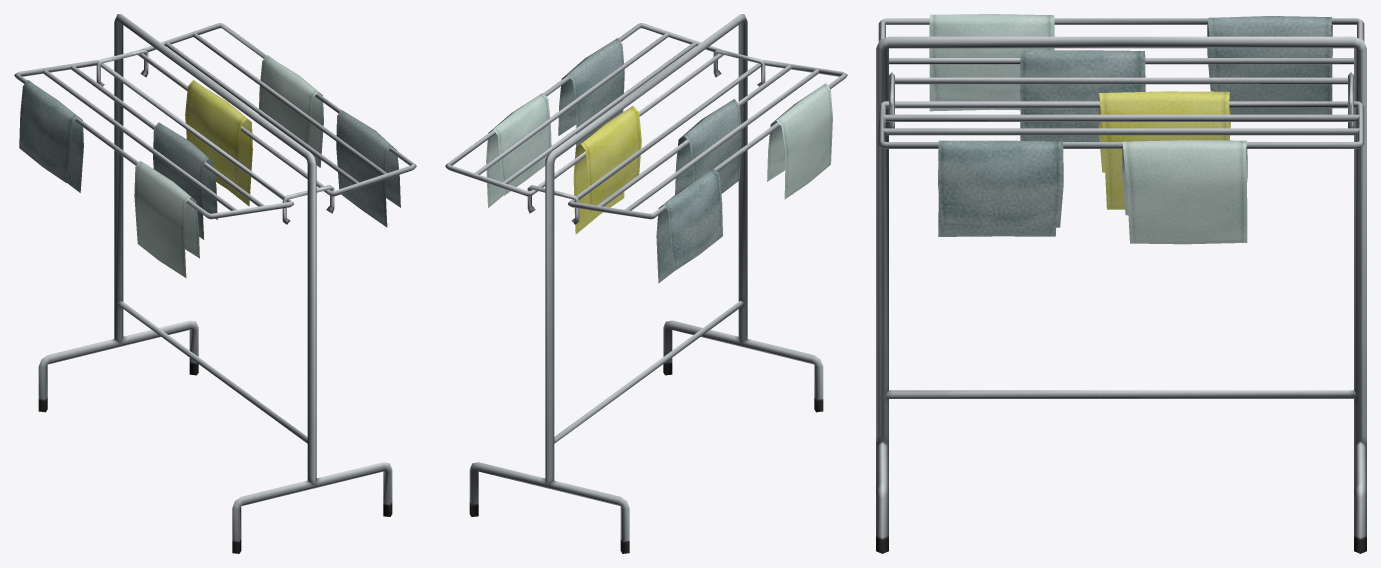
The model's file is SHW_Towel_rack_01_01.fbx.
3 renders of one model, left to right at view 1: azimuth 30°, elevation 25°; view 2: azimuth 150°, elevation 25°; view 3: azimuth 270°, elevation 25°, orthographic. The views are drawn at different scales.
Parts seen in each view (by area): view 1: Towel_rack, duster_06, duster_05, duster_04, duster_01, duster_02, duster_03; view 2: Towel_rack, duster_06, duster_05, duster_04, duster_02, duster_01, duster_03; view 3: Towel_rack, duster_02, duster_01, duster_05, duster_06, duster_03, duster_04.
Boxes of the visible parts, x1,y1,x2,y2 form: Towel_rack: [14, 14, 416, 553]; duster_06: [134, 161, 199, 277]; duster_05: [19, 80, 83, 192]; duster_04: [185, 79, 252, 206]; duster_01: [336, 110, 400, 227]; duster_02: [259, 55, 323, 167]; duster_03: [153, 122, 217, 239]; Towel_rack: [445, 14, 847, 553]; duster_06: [767, 83, 832, 199]; duster_05: [656, 168, 722, 283]; duster_04: [573, 106, 641, 234]; duster_02: [486, 93, 551, 207]; duster_01: [558, 38, 624, 147]; duster_03: [675, 99, 741, 194]; Towel_rack: [876, 18, 1366, 553]; duster_02: [1122, 140, 1247, 244]; duster_01: [938, 140, 1063, 236]; duster_05: [1207, 16, 1332, 114]; duster_06: [929, 14, 1054, 111]; duster_03: [1020, 50, 1145, 141]; duster_04: [1098, 91, 1230, 209].
Size of the model in its own units: 42.42 by 68 by 64.5.
